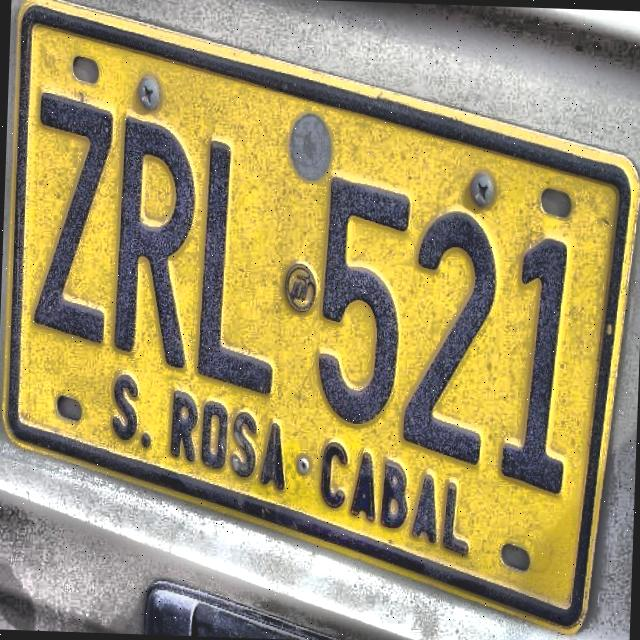1: (492, 227, 593, 512)
2: (391, 201, 513, 479)
5: (309, 170, 416, 439)
L: (192, 133, 288, 405)
R: (107, 105, 202, 379)
Z: (23, 86, 121, 356)
